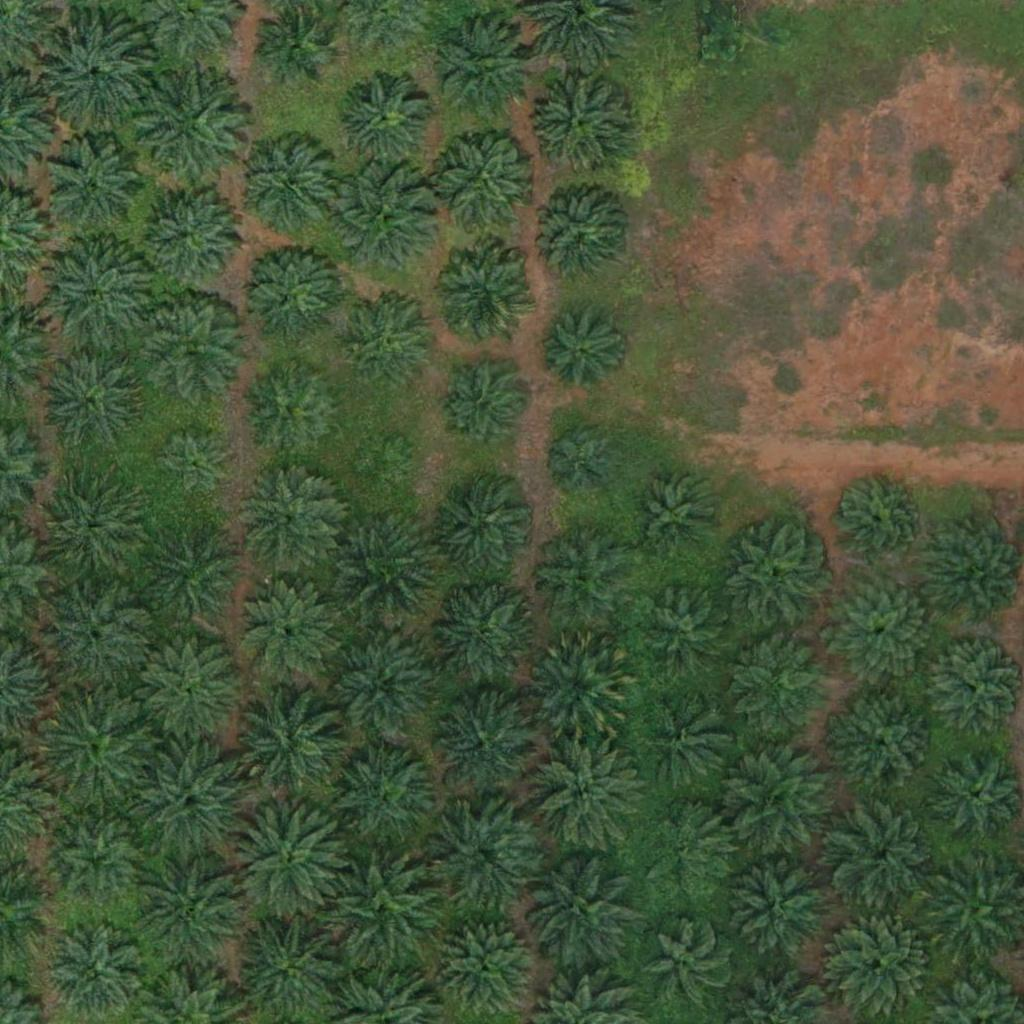Kelapa_Sawit: (427, 122, 540, 236), (325, 161, 438, 275), (136, 851, 249, 965), (825, 575, 938, 689), (829, 687, 942, 801), (523, 631, 636, 744), (426, 472, 539, 585), (42, 240, 155, 353), (40, 684, 153, 797), (137, 744, 250, 857), (231, 805, 344, 918), (527, 735, 640, 848), (522, 852, 635, 965), (37, 8, 149, 121), (135, 73, 247, 186), (430, 16, 542, 129), (427, 580, 539, 693), (328, 509, 440, 622), (326, 631, 438, 744), (38, 581, 150, 694), (234, 685, 346, 798), (324, 738, 436, 851), (323, 854, 435, 967), (426, 801, 538, 914), (727, 745, 839, 858), (725, 853, 837, 966), (829, 802, 941, 915), (43, 137, 143, 238), (529, 72, 629, 173), (531, 528, 631, 629), (342, 291, 442, 392), (240, 240, 340, 341), (244, 359, 344, 460), (236, 467, 336, 568), (236, 578, 336, 679), (140, 185, 240, 286), (141, 297, 241, 398), (143, 523, 243, 624), (141, 639, 241, 740), (41, 346, 141, 447), (38, 479, 138, 580), (432, 693, 532, 794), (435, 916, 535, 1017), (831, 913, 931, 1014), (233, 136, 333, 236), (332, 71, 432, 171), (531, 186, 631, 286), (432, 246, 532, 346), (724, 527, 824, 627), (737, 637, 837, 737), (536, 310, 624, 398), (631, 472, 719, 560), (51, 821, 139, 909), (642, 702, 730, 790), (647, 592, 734, 680), (438, 362, 525, 450), (646, 806, 733, 894), (641, 920, 728, 1008), (832, 475, 919, 563), (256, 5, 331, 81), (154, 429, 229, 504), (549, 430, 612, 493), (351, 433, 413, 496)
